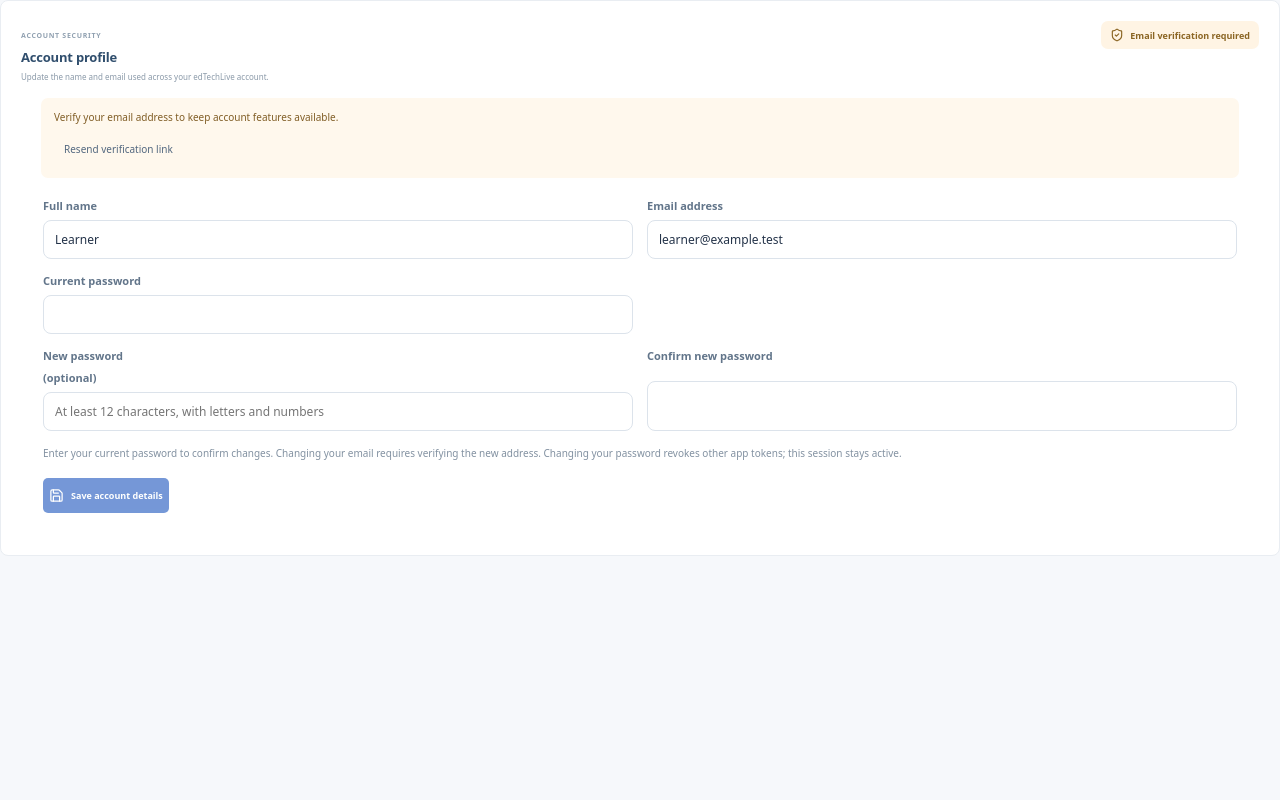
Test: account email verification recovery › requests a fresh verification link for the signed-in account and shows the local action
The width and height of the screenshot is (1280, 800).
Click the button "Resend verification link": x=118, y=149 [54,131,183,167]
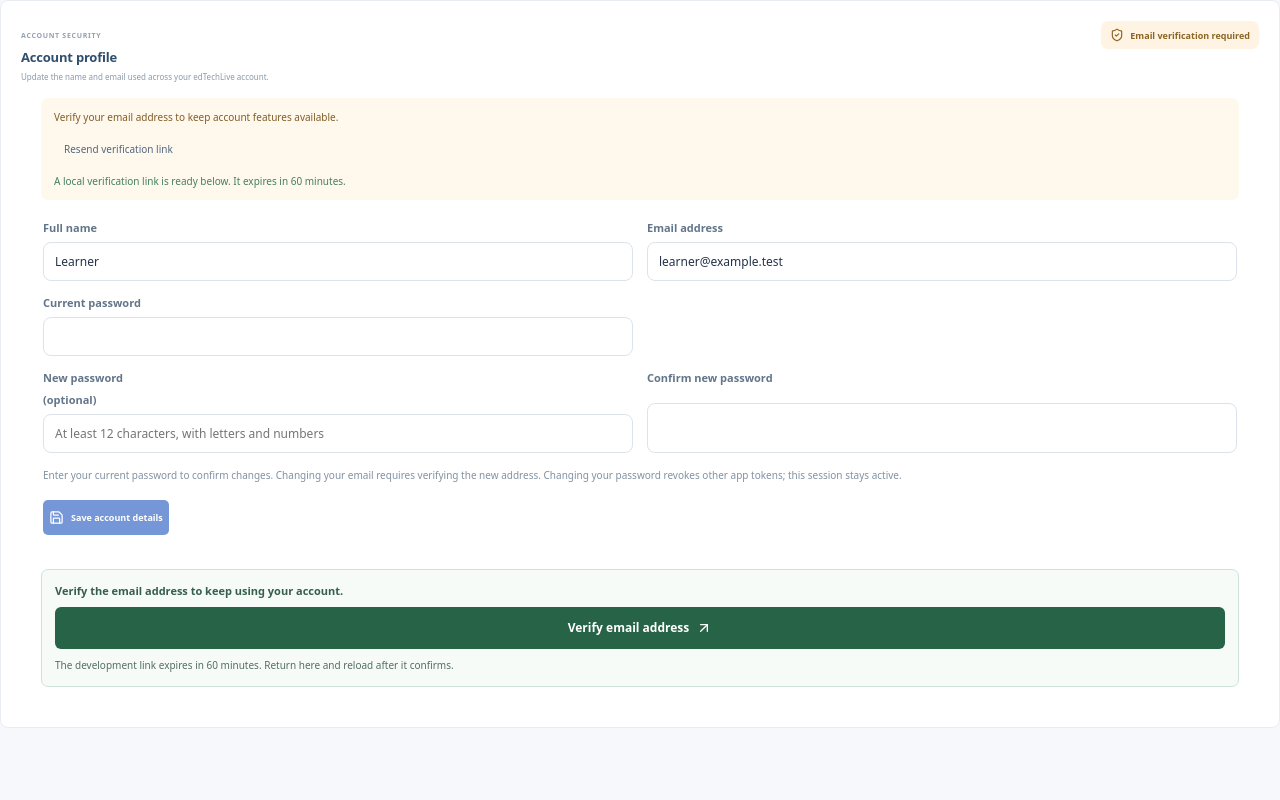
Expected: the message shows "A local verification link is ready below.", [54,174,346,188]
